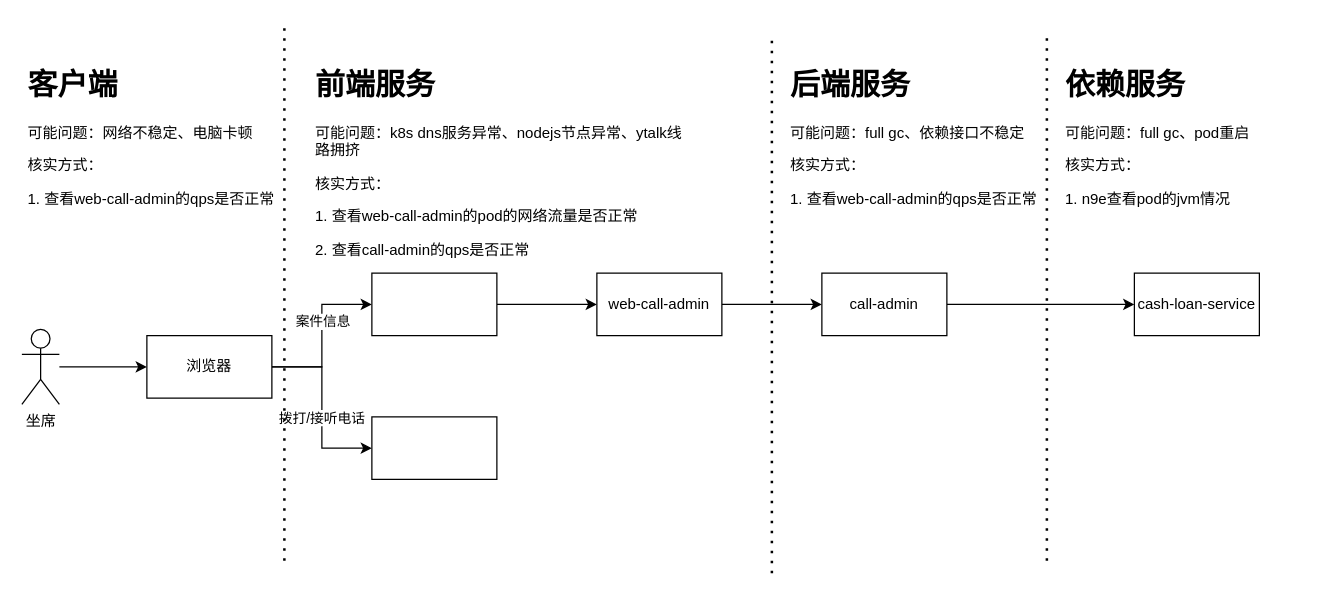
Image size: 1344x596. Some labels were removed from this diagram. Each missing label, with the centre of its shape:
"coredns" goes at point 434,304.
"ytalk" goes at point 434,447.
